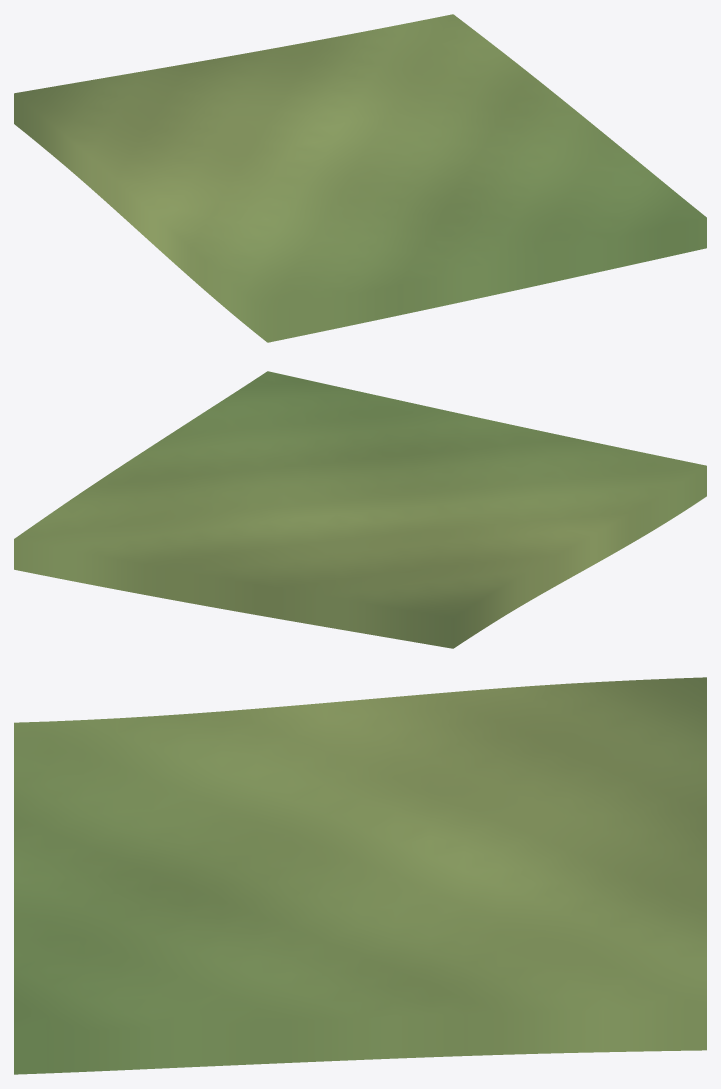
3 renders of one model, top to bottom at view 1: azimuth 30°, elevation 25°; view 2: azimuth 150°, elevation 25°; view 3: azimuth 270°, elevation 25°, orthographic. The views are drawn at different scales.
Visible parts, largest first — view 1: terrain; view 2: terrain; view 3: terrain.
Part boxes in pixels (left/top/right/bottom): terrain: left=14, top=14, right=706, bottom=342; terrain: left=14, top=371, right=706, bottom=648; terrain: left=14, top=677, right=706, bottom=1074.
Size of the model in its own units: 30 by 4.99 by 30.
